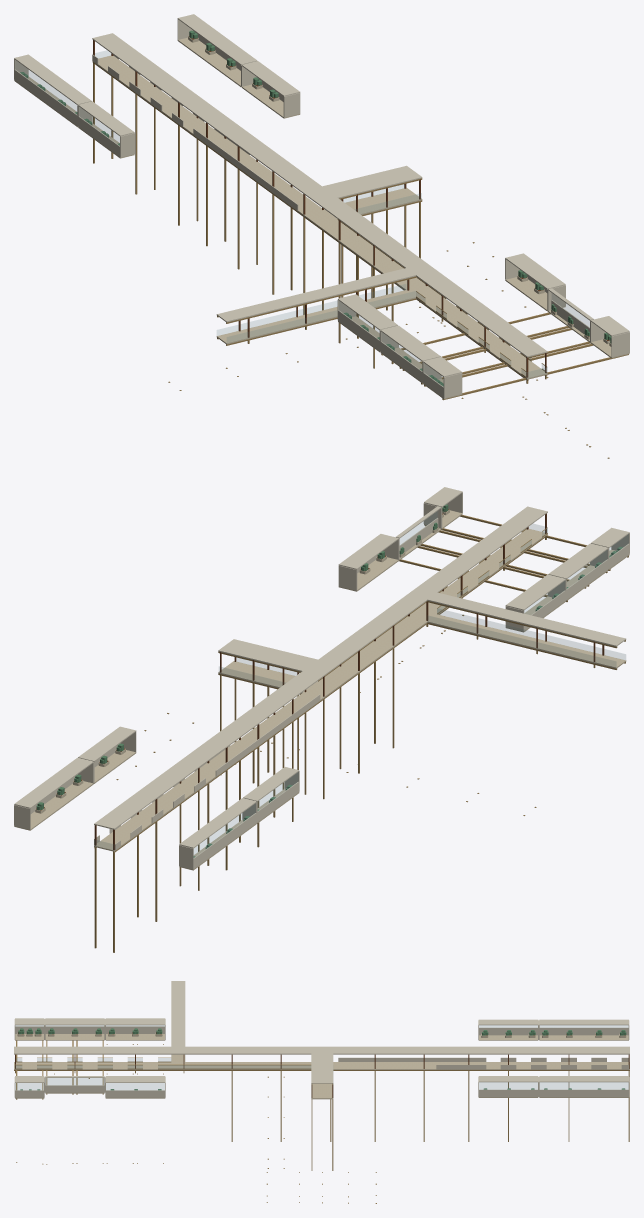
File: D04_STARBOARD_AFT_COMBINEDSTRUCTURE_r002.glb
The picture shows the model from 3 angles, top to bottom: view 1: azimuth 30°, elevation 25°; view 2: azimuth 150°, elevation 25°; view 3: azimuth 270°, elevation 25°; orthographic projection. The views are drawn at different scales.
Parts seen in each view (by area): view 1: SA_ReceivingRoof, SA_ReceivingFloor, SAK_D04HC5_west_Roof, SAK_D04HC5_east_Roof, SA_PublicArrivalGuard_403.5, SA_PublicArrivalGuard_406.9, SAK_D04HC_west_Roof, SAK_D04HC2_east_Roof, SAK_D04HC_east_Roof, SAK_D04HC5_west_Floor, SAK_D04H4_D04NR_EastGuard_0_Successor_0, SAK_D04HC4_west_Roof (+4 smaller); view 2: SA_ReceivingRoof, SA_ReceivingFloor, SA_PublicArrivalGuard_403.5, SAK_D04HC5_west_Roof, SA_PublicArrivalGuard_406.9, SAK_D04HC5_east_Roof, SAK_D04HC_east_Roof, SAK_D04HC_west_Roof, SAK_D04HC2_east_Roof, SAK_D04HC5_west_Floor, SAK_D04H4_D04NR_EastGuard_0_Successor_0, SAK_D04HC4_west_Roof (+3 smaller); view 3: SA_ReceivingRoof, SA_ReceivingFloor, SAK_D04H4_D04NR_EastGuard_0_Successor_0, SAK_D04HC5_west_PrivacyScreen, SAK_D04HC5_west_GlassUpper, SAK_D04HC5_east_PrivacyScreen, SAK_D04HC5_west_Roof, SAK_D04HC5_east_Roof, SAK_D04H_GuardSuccessor_D04PF_UpperGuard_17_2, SA_StreetLong_45.85, SAK_D04HC_east_Roof, SAK_D04HC4_west_PrivacyScreen (+15 smaller).
Part boxes in pixels (x1,y1,x2,y2): SA_ReceivingRoof: [92, 33, 547, 357]; SA_ReceivingFloor: [92, 55, 547, 379]; SAK_D04HC5_west_Roof: [177, 14, 257, 65]; SAK_D04HC5_east_Roof: [14, 54, 91, 105]; SA_PublicArrivalGuard_403.5: [217, 284, 405, 335]; SA_PublicArrivalGuard_406.9: [227, 291, 415, 342]; SAK_D04HC_west_Roof: [505, 253, 565, 289]; SAK_D04HC2_east_Roof: [380, 325, 440, 361]; SAK_D04HC_east_Roof: [338, 294, 397, 330]; SAK_D04HC5_west_Floor: [177, 37, 241, 87]; SAK_D04H4_D04NR_EastGuard_0_Successor_0: [193, 128, 298, 210]; SAK_D04HC4_west_Roof: [242, 61, 300, 96]; SA_ReceivingRoof: [94, 506, 626, 829]; SA_ReceivingFloor: [94, 529, 626, 851]; SA_PublicArrivalGuard_403.5: [427, 616, 616, 666]; SAK_D04HC5_west_Roof: [14, 757, 93, 808]; SA_PublicArrivalGuard_406.9: [437, 608, 625, 659]; SAK_D04HC5_east_Roof: [179, 798, 256, 848]; SAK_D04HC_east_Roof: [505, 574, 565, 610]; SAK_D04HC_west_Roof: [338, 534, 398, 569]; SAK_D04HC2_east_Roof: [548, 543, 608, 579]; SAK_D04HC5_west_Floor: [14, 781, 93, 830]; SAK_D04H4_D04NR_EastGuard_0_Successor_0: [215, 694, 320, 776]; SAK_D04HC4_west_Roof: [78, 726, 136, 761]; SA_ReceivingRoof: [14, 981, 629, 1083]; SA_ReceivingFloor: [14, 1054, 629, 1099]; SAK_D04H4_D04NR_EastGuard_0_Successor_0: [338, 1057, 486, 1061]; SAK_D04HC5_west_PrivacyScreen: [539, 1089, 628, 1096]; SAK_D04HC5_west_GlassUpper: [540, 1082, 628, 1089]; SAK_D04HC5_east_PrivacyScreen: [539, 1027, 628, 1035]; SAK_D04HC5_west_Roof: [539, 1076, 628, 1082]; SAK_D04HC5_east_Roof: [539, 1019, 628, 1025]; SAK_D04H_GuardSuccessor_D04PF_UpperGuard_17_2: [158, 1065, 310, 1068]; SA_StreetLong_45.85: [14, 1070, 629, 1070]; SAK_D04HC_east_Roof: [105, 1018, 165, 1025]; SAK_D04HC4_west_PrivacyScreen: [478, 1089, 538, 1096].
Bounding box in the file's own units: 78.59 × 24.15 × 151.
Materials: 7 (4 with a texture image).
